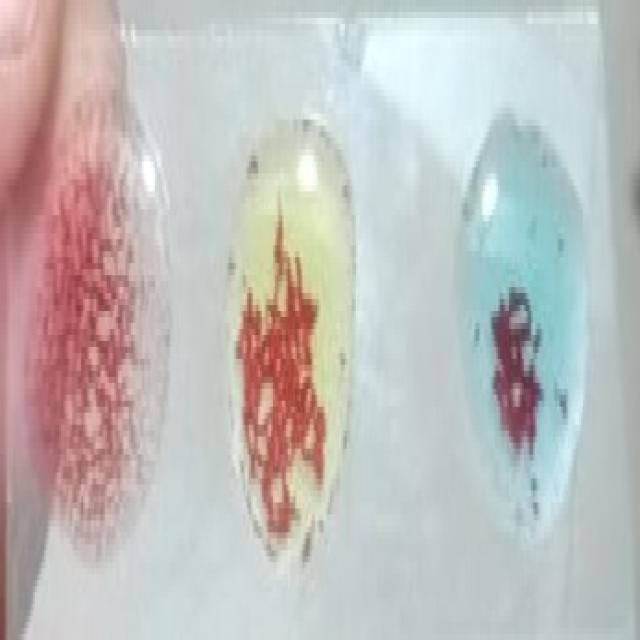A: (461, 118, 591, 533)
B: (230, 116, 348, 569)
D: (35, 91, 168, 554)
